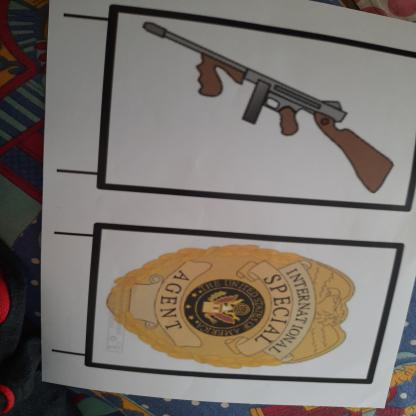Bootlegger: (121, 16, 416, 201)
G-man: (96, 231, 368, 382)
